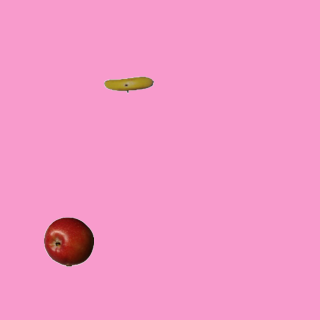Apple Braeburn: (43, 216, 93, 266)
Banana: (103, 59, 153, 109)
